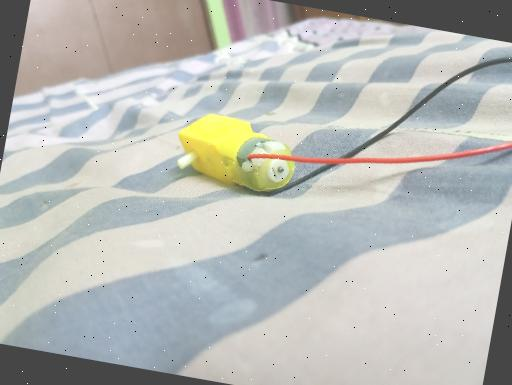Motor: (170, 107, 302, 200)
